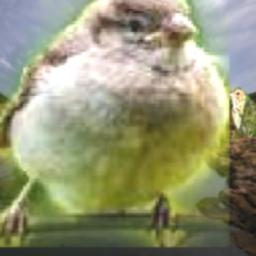Sparrow: (0, 0, 229, 247), (228, 87, 256, 142)
